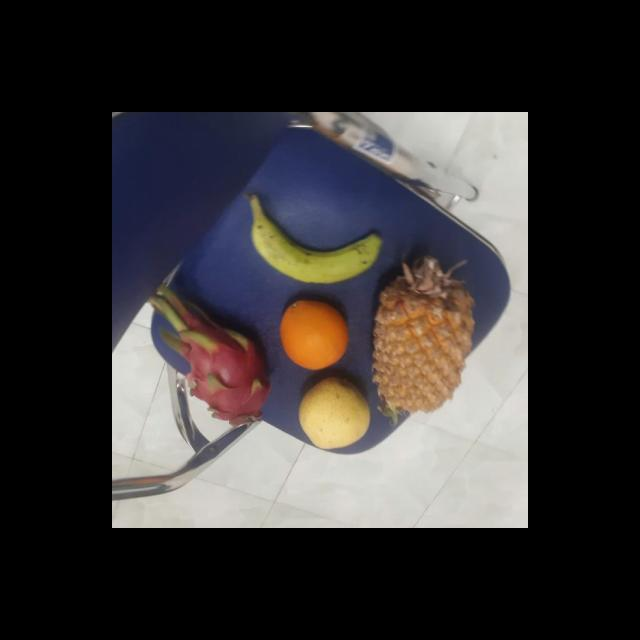banana: (246, 206, 380, 285)
orange: (278, 297, 350, 369)
pear: (295, 377, 372, 450)
pineapple: (368, 257, 474, 418)
pitaya: (185, 329, 272, 426)
